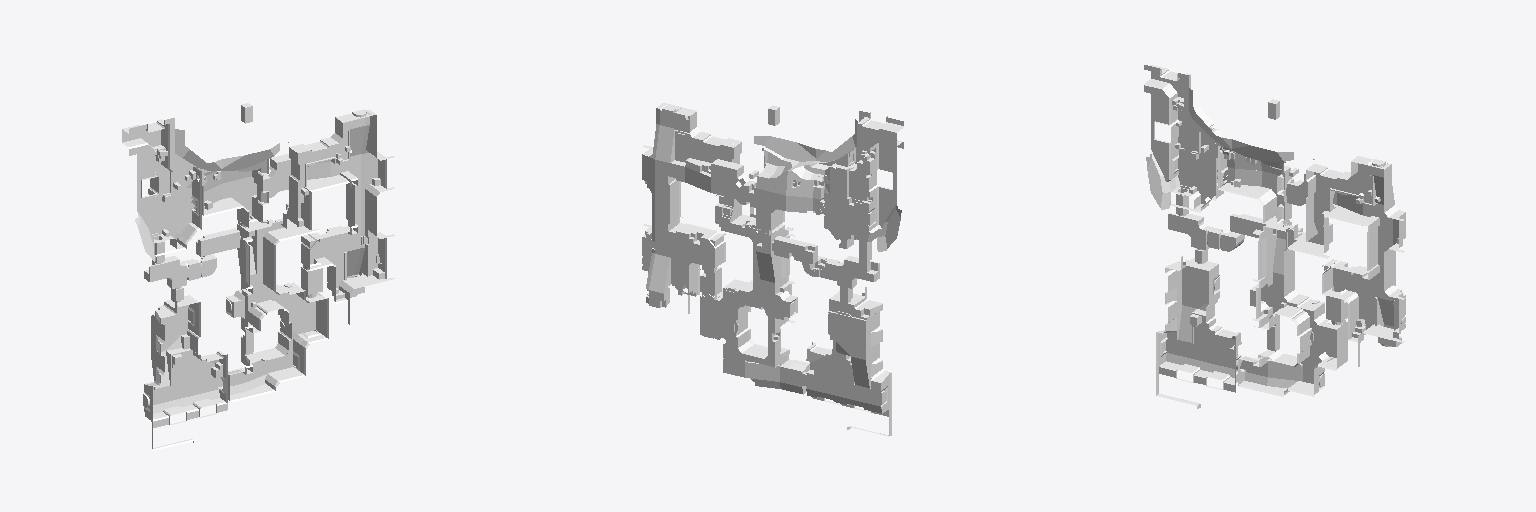
Rendered from dust2_blend.obj.
The picture shows the model from 3 angles: view 1: azimuth 30°, elevation 25°; view 2: azimuth 150°, elevation 25°; view 3: azimuth 330°, elevation 25°; orthographic projection.
Visible parts, largest first — view 1: de_dust2; view 2: de_dust2; view 3: de_dust2.
Boxes of the visible parts, x1,y1,x2,y2 form: de_dust2: [122, 103, 394, 450]; de_dust2: [642, 103, 903, 436]; de_dust2: [1144, 65, 1405, 408].
Bounding box in the file's own units: 1208 × 1433 × 164.